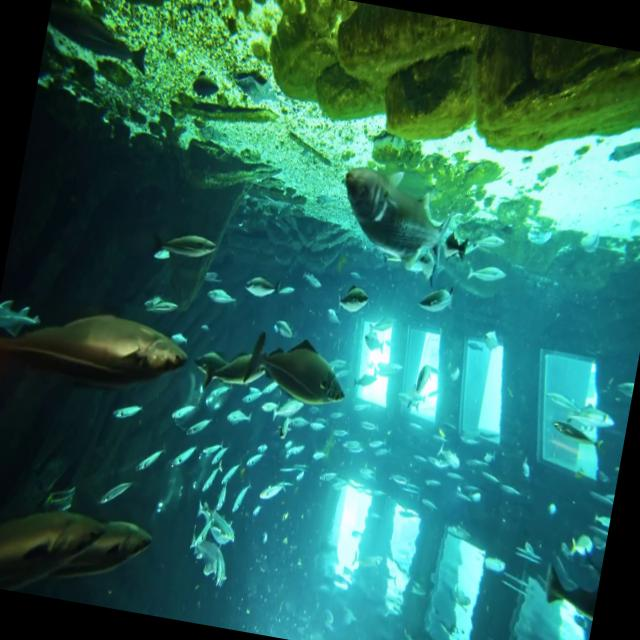fish: (0, 268, 199, 425), (330, 148, 488, 287), (0, 459, 111, 604), (236, 327, 358, 419), (62, 502, 160, 604), (526, 544, 604, 620), (146, 217, 223, 274), (85, 464, 138, 530), (406, 272, 462, 332), (562, 389, 624, 437), (460, 254, 514, 302), (469, 216, 519, 260), (161, 434, 204, 485), (333, 278, 378, 326), (127, 434, 166, 487), (252, 468, 296, 514), (241, 260, 282, 308), (104, 390, 143, 438), (198, 281, 241, 314)
